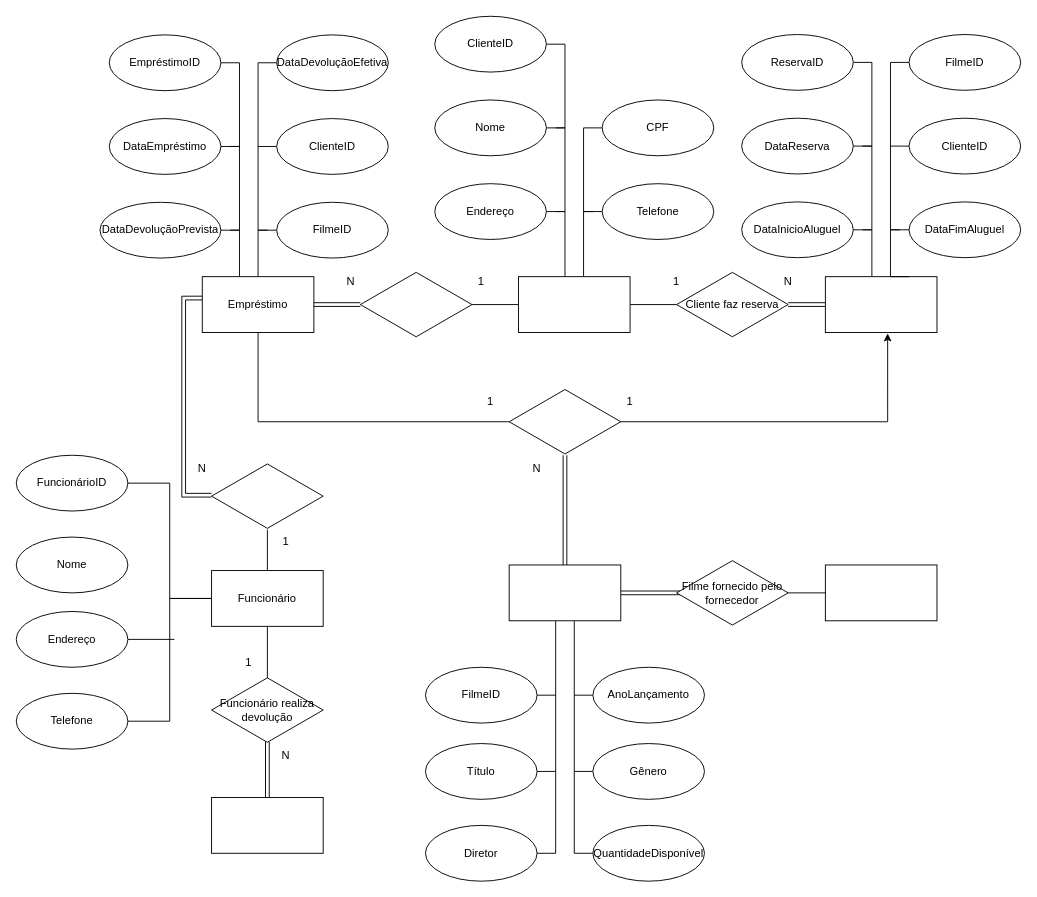
Image size: 1037x897. Some labels were removed from this diagram. Each missing label, with the centre of its shape:
Cliente: [574,304]
Cliente faz emprestimo: [415,304]
Devolucão: [267,825]
Filme: [564,592]
Filme emprestado Filme reservado: [564,421]
Fornecedor: [880,592]
Funcionário realiza emprestimo: [267,496]
Reserva: [880,304]
